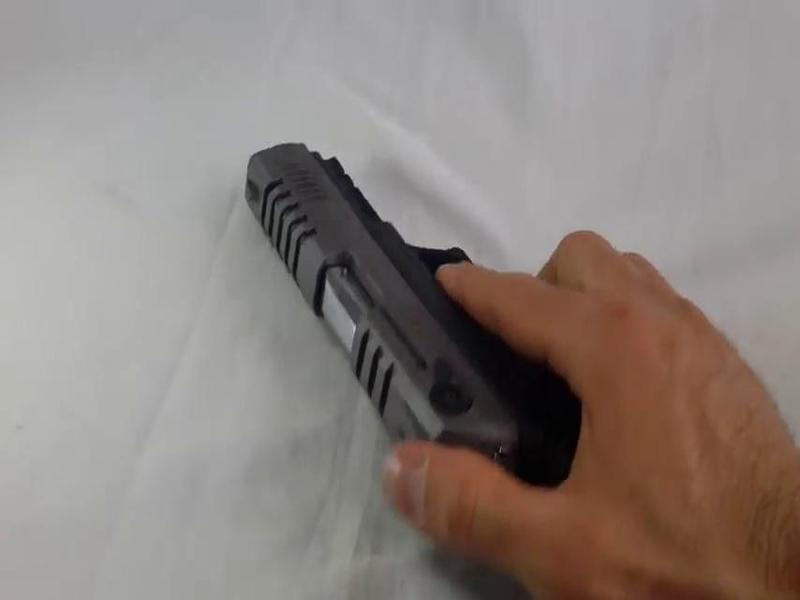Pistola: (166, 143, 607, 543)
